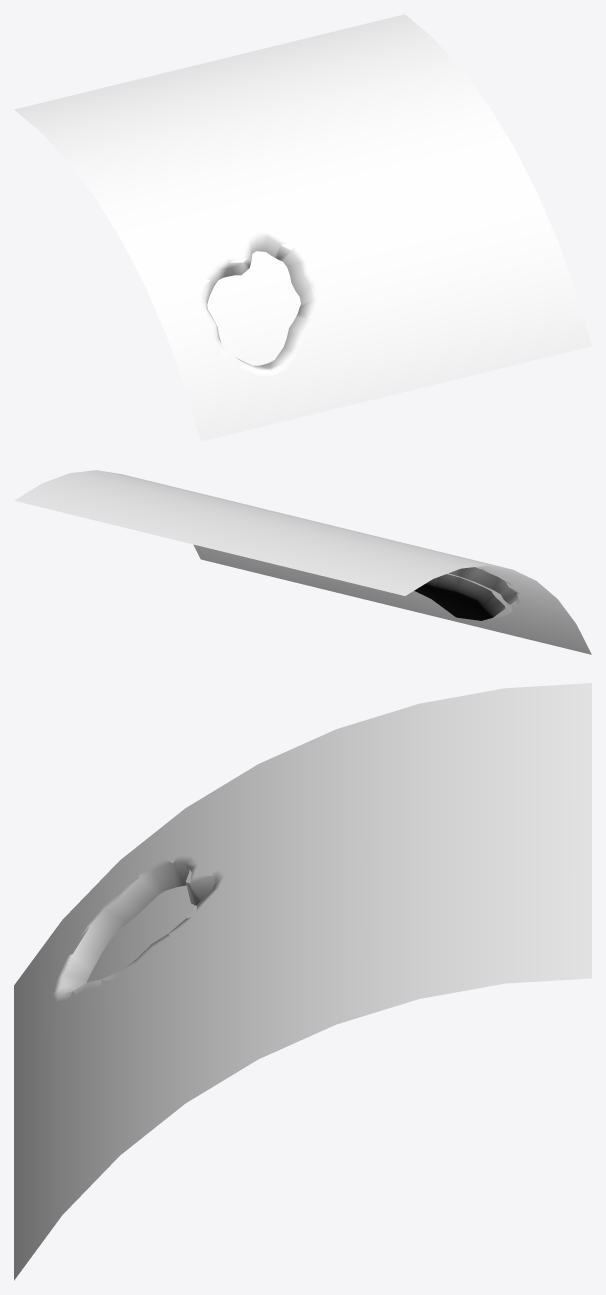
The model's file is grd_F_5.dae.
The picture shows the model from 3 angles, top to bottom: view 1: azimuth 30°, elevation 25°; view 2: azimuth 150°, elevation 25°; view 3: azimuth 270°, elevation 25°; orthographic projection. The views are drawn at different scales.
Visible parts, largest first — view 1: grd_F_5; view 2: grd_F_5; view 3: grd_F_5.
Boxes of the visible parts, x1,y1,x2,y2 form: grd_F_5: [14, 14, 591, 441]; grd_F_5: [14, 470, 591, 654]; grd_F_5: [14, 683, 591, 1280].
Bounding box in the file's own units: 512 × 244 × 423.
Materials: 4 (1 with a texture image).
